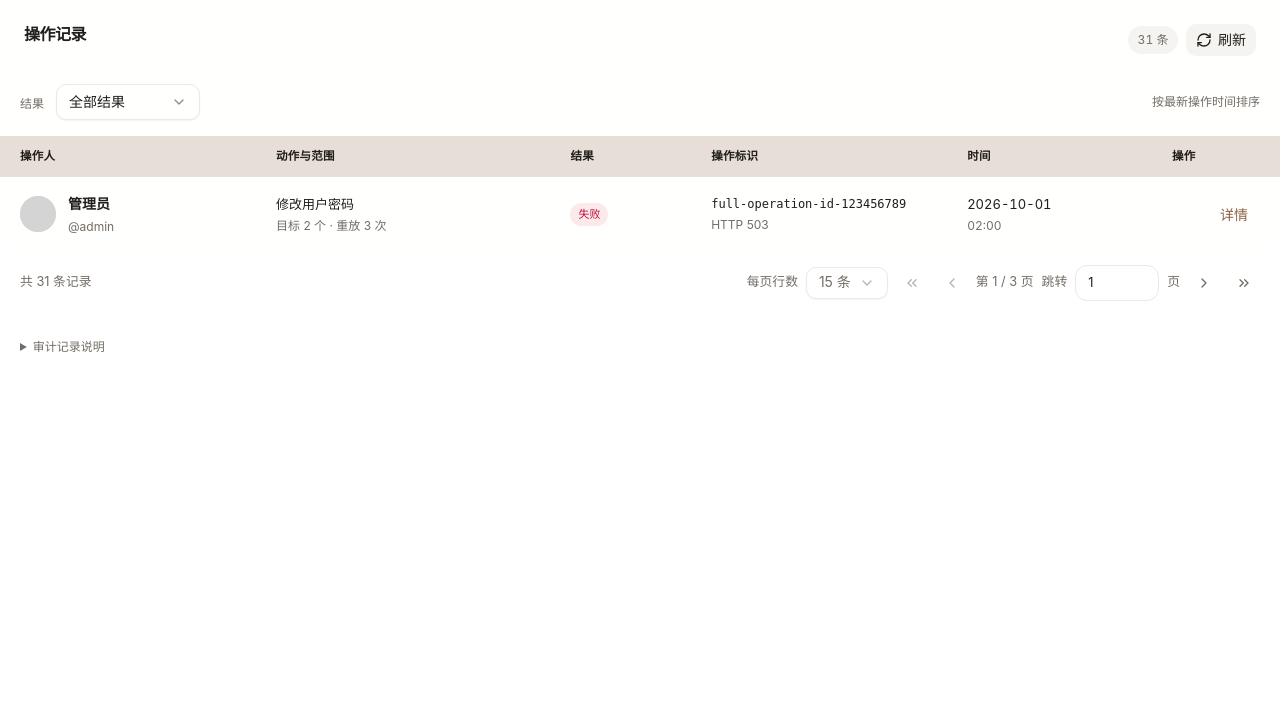
Scenario: 账户审计目录 › 操作详情保留错误、完整 ID、响应码和重放信息
The image size is (1280, 720).
Click the button with aria-label "查看管理员的操作记录详情". click: (1234, 214)
box: [1208,198,1260,230]
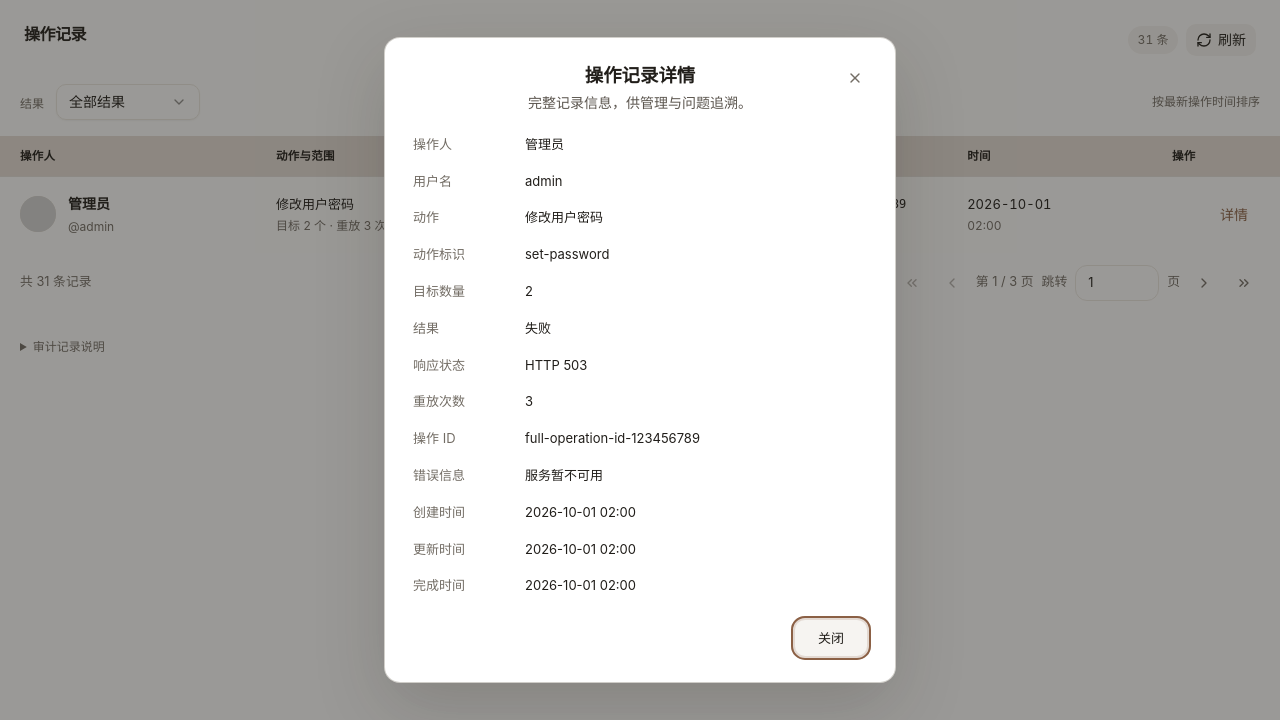
Check: the text "full-operation-id-123456789" is shown, box [525,430,700,446]
Check: the text "服务暂不可用" is shown, box [525,467,603,483]
Check: the text "HTTP 503" is shown, box [525,356,587,372]
